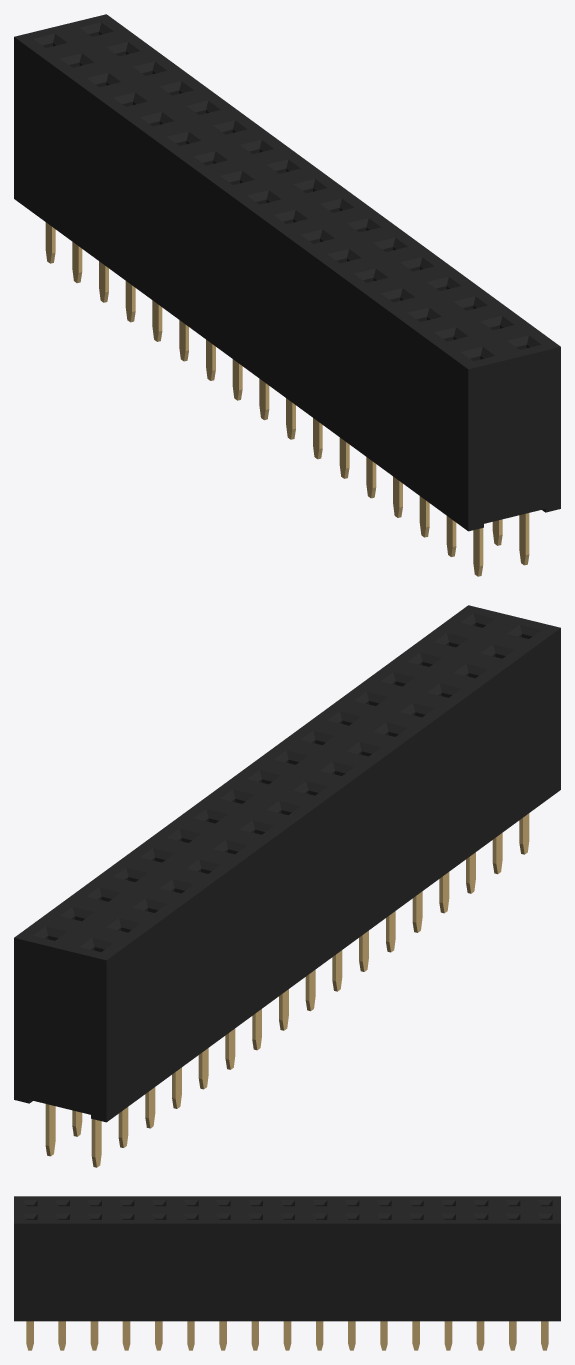
File: kc-pinsocket_2x17_p2.54mm_vertical.glb
3 views of the same model, one above another, from view 1: azimuth 30°, elevation 25°; view 2: azimuth 150°, elevation 25°; view 3: azimuth 270°, elevation 25° (orthographic). The views are drawn at different scales.
Parts seen in each view (by area): view 1: 0_0_0_0, 0.75_0.5_0.25_0.9; view 2: 0_0_0_0, 0.75_0.5_0.25_0.9; view 3: 0_0_0_0, 0.75_0.5_0.25_0.9.
Part boxes in pixels (x1,y1,x2,y2): 0_0_0_0: (14, 14, 560, 531); 0.75_0.5_0.25_0.9: (45, 222, 529, 576); 0_0_0_0: (14, 605, 560, 1122); 0.75_0.5_0.25_0.9: (45, 813, 529, 1167); 0_0_0_0: (14, 1196, 560, 1321); 0.75_0.5_0.25_0.9: (26, 1321, 548, 1350).
Size of the model in its own units: 0.5081 by 1.16 by 4.32.
